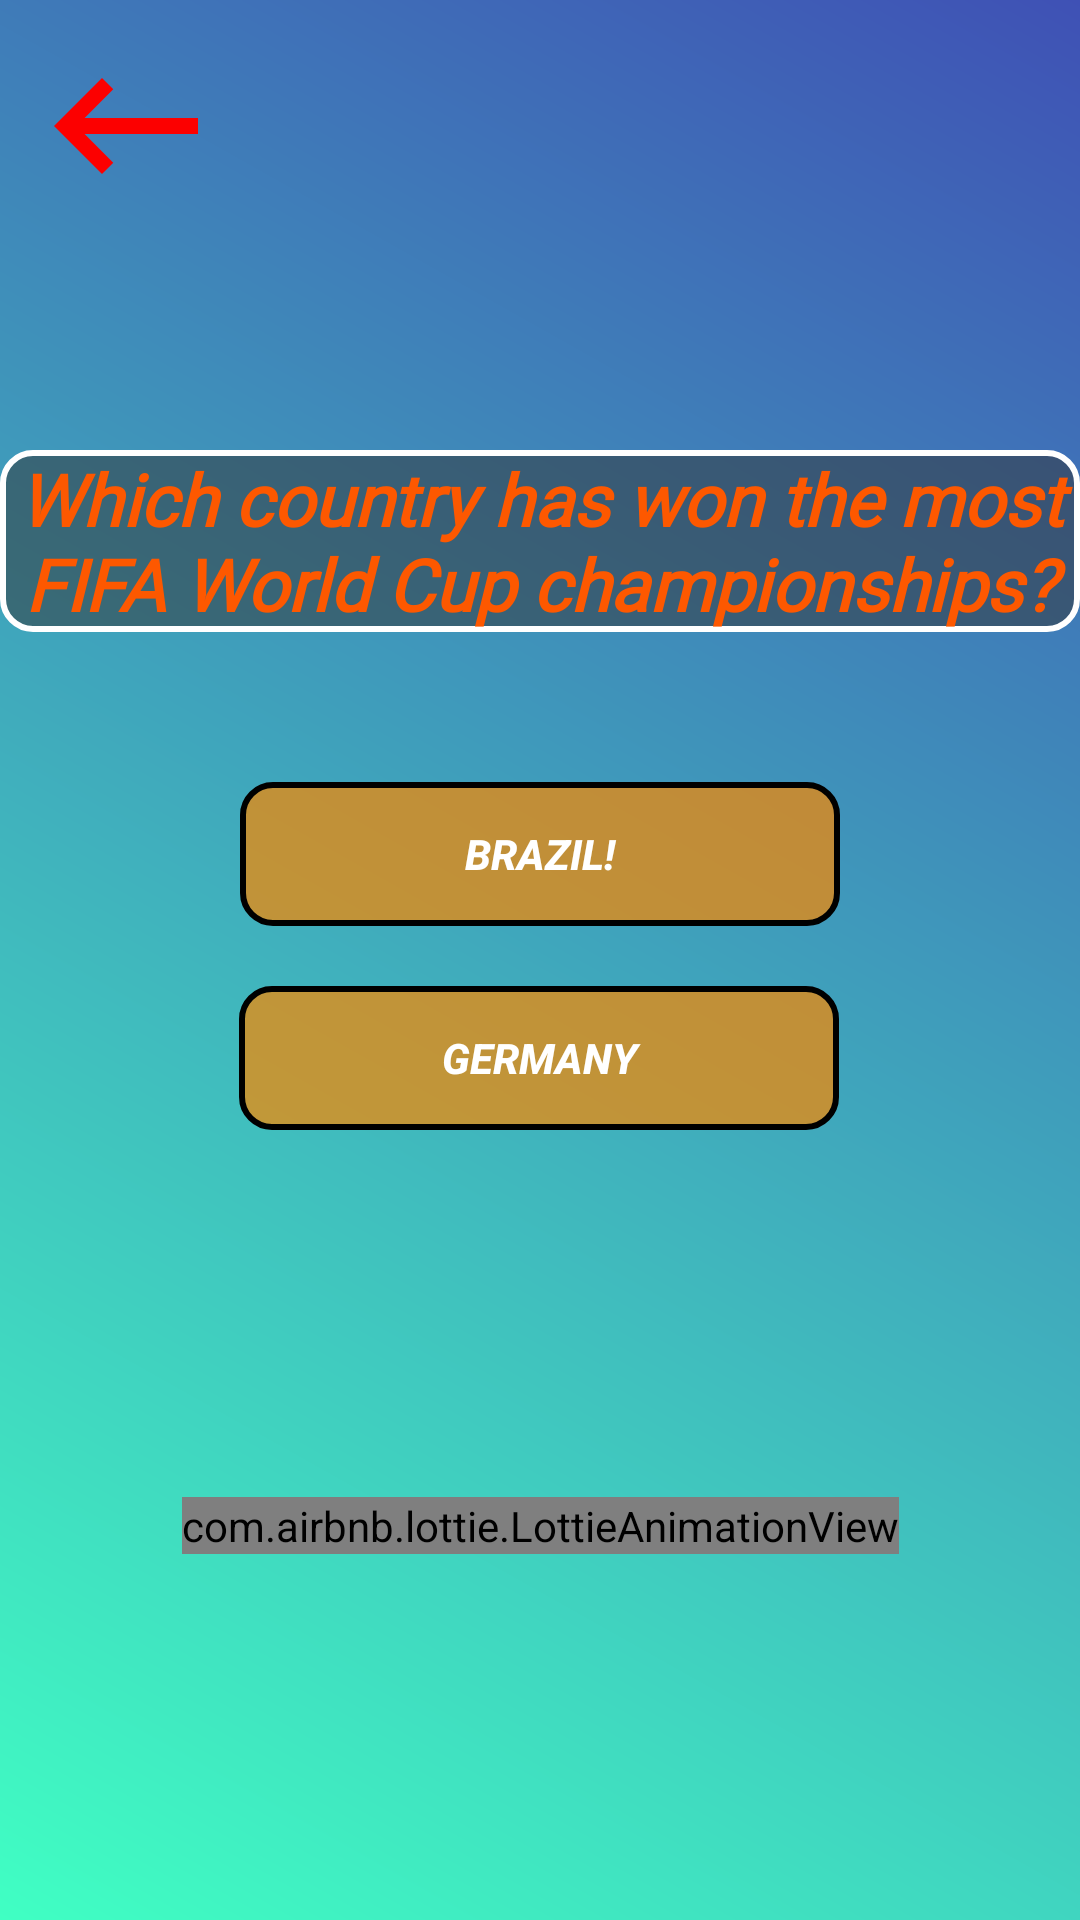

Icon click points for this 1080px x 1920px phone screenshot, format point (x, y):
back: point (126, 126)
